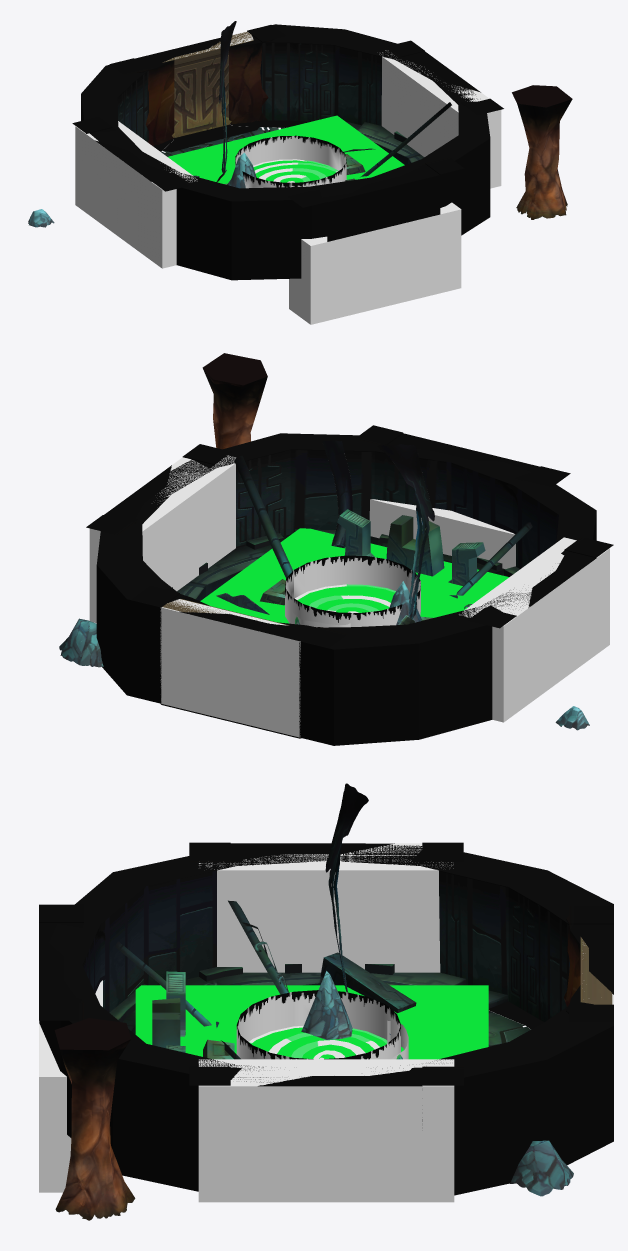
The model's file is Dungeon_021_WarpRoom_008.fbx.
The picture shows the model from 3 angles, top to bottom: view 1: azimuth 30°, elevation 25°; view 2: azimuth 150°, elevation 25°; view 3: azimuth 270°, elevation 25°; orthographic projection. The views are drawn at different scales.
Parts seen in each view (by area): view 1: Dun_011_WarpRoom_002_wall, DoorWay_NavMask (4), Dun_011_Door_002 (×4), DoorWay_NavMask (3), DoorWay_NavMask (2), Dun_011_Door_002_old, EF_Dun_Portal_WarpRoom, Dungeon_011_Object_010, Dun_011_Door_003_WarpRoom, EF_Dun_Portal_WarpRoom5, Dun_011_WarpRoom_002_object01, Dun_011_WarpRoom_002_ground (+4 smaller); view 2: Dun_011_WarpRoom_002_wall, DoorWay_NavMask (3), DoorWay_NavMask (1), Dun_011_WarpRoom_002_object01, DoorWay_NavMask (2), EF_Dun_Portal_WarpRoom, Dun_011_Door_002 (×4), EF_Dun_Portal_WarpRoom5, Dungeon_011_Object_010, DoorWay_NavMask (4), Dun_011_WarpRoom_002_ground, Dun_011_Door_002_old (+3 smaller); view 3: Dun_011_WarpRoom_002_wall, DoorWay_NavMask (2), DoorWay_NavMask (3), EF_Dun_Portal_WarpRoom, Dun_011_Door_002 (×3), Dungeon_011_Object_010, Dun_011_WarpRoom_002_object01, EF_Dun_Portal_WarpRoom5, Dun_011_WarpRoom_002_ground, Dun_011_Door_002_old, DoorWay_NavMask (4), Dungeon_011_Object_012 (+4 smaller).
Boxes of the visible parts, x1,y1,x2,y2 form: Dun_011_WarpRoom_002_wall: (81, 24, 490, 280); DoorWay_NavMask (4): (289, 202, 461, 324); Dun_011_Door_002 (×4): (72, 32, 503, 241); DoorWay_NavMask (3): (75, 121, 197, 268); DoorWay_NavMask (2): (379, 50, 501, 188); Dun_011_Door_002_old: (110, 25, 285, 145); EF_Dun_Portal_WarpRoom: (168, 115, 404, 183); Dungeon_011_Object_010: (512, 85, 572, 219); Dun_011_Door_003_WarpRoom: (162, 31, 253, 137); EF_Dun_Portal_WarpRoom5: (235, 135, 346, 188); Dun_011_WarpRoom_002_object01: (193, 21, 451, 184); Dun_011_WarpRoom_002_ground: (161, 121, 424, 164); Dun_011_WarpRoom_002_wall: (96, 433, 596, 745); DoorWay_NavMask (3): (459, 537, 609, 722); DoorWay_NavMask (1): (160, 599, 300, 737); Dun_011_WarpRoom_002_object01: (216, 440, 532, 737); DoorWay_NavMask (2): (89, 455, 235, 622); EF_Dun_Portal_WarpRoom: (200, 528, 508, 623); Dun_011_Door_002 (×4): (86, 425, 613, 738); EF_Dun_Portal_WarpRoom5: (285, 555, 420, 626); Dungeon_011_Object_010: (202, 353, 267, 449); DoorWay_NavMask (4): (369, 499, 515, 568); Dun_011_WarpRoom_002_ground: (161, 529, 519, 738); Dun_011_Door_002_old: (132, 586, 347, 647); Dun_011_WarpRoom_002_wall: (39, 845, 613, 1195); DoorWay_NavMask (2): (198, 1059, 454, 1202); DoorWay_NavMask (3): (199, 843, 453, 972); EF_Dun_Portal_WarpRoom: (135, 985, 488, 1059); Dun_011_Door_002 (×3): (39, 842, 463, 1121); Dungeon_011_Object_010: (54, 1018, 135, 1220); Dun_011_WarpRoom_002_object01: (115, 783, 416, 1059); EF_Dun_Portal_WarpRoom5: (236, 990, 400, 1059); Dun_011_WarpRoom_002_ground: (109, 964, 530, 1046); Dun_011_Door_002_old: (566, 906, 613, 1021); DoorWay_NavMask (4): (39, 980, 102, 1192); Dungeon_011_Object_012: (510, 1140, 573, 1196).
Size of what is drawn, in the model's own units: 11.98 by 5.5 by 9.39.
